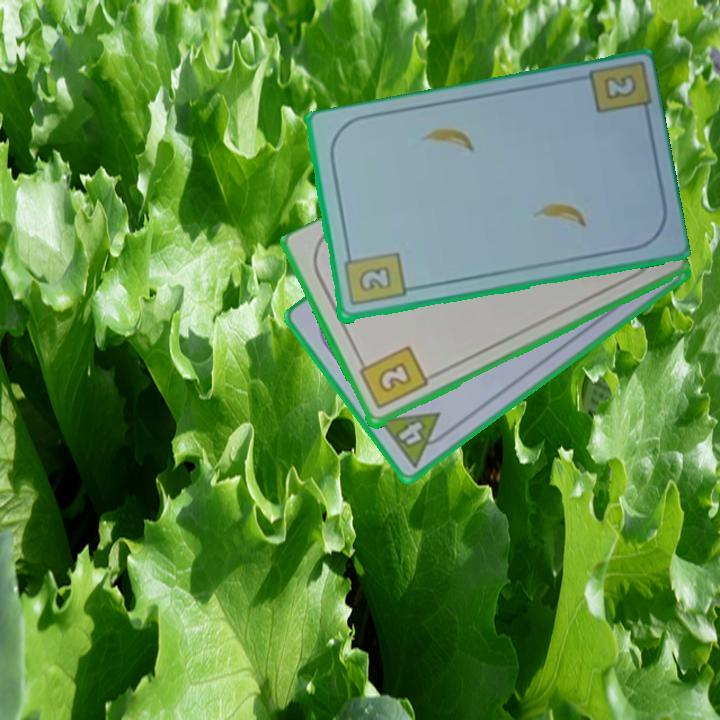2b: (355, 343, 431, 413), (339, 248, 408, 309), (600, 73, 639, 103)
4p: (375, 408, 455, 471)
